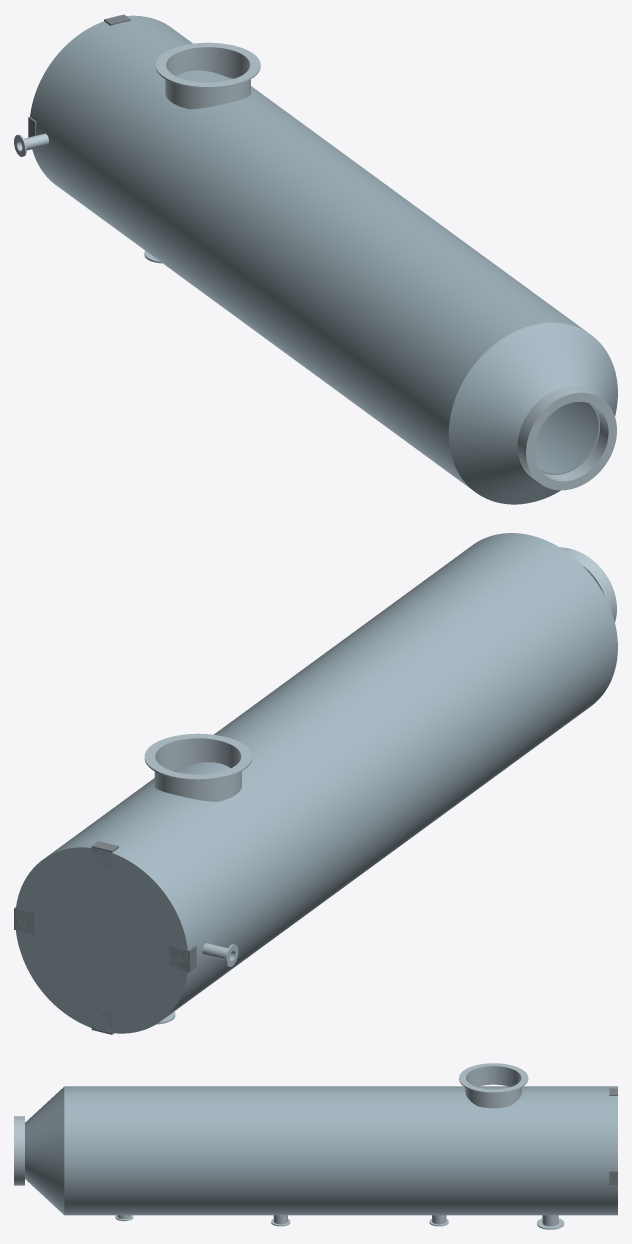
3 views of the same model, one above another, from view 1: azimuth 30°, elevation 25°; view 2: azimuth 150°, elevation 25°; view 3: azimuth 270°, elevation 25° (orthographic). The views are drawn at different scales.
Visible parts, largest first — view 1: 本体_塔身, 本体_塔顶收口, 接口_顶部法兰, 接口_北侧大口接管, 接口_北侧大口法兰, 本体_下封底; view 2: 本体_塔身, 本体_下封底, 接口_北侧大口接管, 接口_北侧大口法兰, 支撑_底部托座, 接口_顶部法兰; view 3: 本体_塔身, 本体_塔顶收口, 接口_北侧大口接管, 本体_下封底, 接口_北侧大口法兰, 接口_顶部法兰.
Boxes of the visible parts, bbox=[...] form: 本体_塔身: bbox=[36, 20, 598, 489]; 本体_塔顶收口: bbox=[448, 322, 617, 504]; 接口_顶部法兰: bbox=[517, 386, 616, 490]; 接口_北侧大口接管: bbox=[165, 48, 250, 109]; 接口_北侧大口法兰: bbox=[155, 42, 260, 88]; 本体_下封底: bbox=[30, 15, 173, 186]; 本体_塔身: bbox=[52, 533, 617, 1013]; 本体_下封底: bbox=[15, 843, 193, 1033]; 接口_北侧大口接管: bbox=[154, 740, 241, 801]; 接口_北侧大口法兰: bbox=[144, 733, 251, 780]; 支撑_底部托座: bbox=[14, 841, 196, 1034]; 接口_顶部法兰: bbox=[560, 547, 616, 621]; 本体_塔身: bbox=[64, 1086, 610, 1215]; 本体_塔顶收口: bbox=[25, 1087, 64, 1214]; 接口_北侧大口接管: bbox=[465, 1067, 521, 1108]; 本体_下封底: bbox=[610, 1086, 617, 1215]; 接口_北侧大口法兰: bbox=[459, 1063, 528, 1093]; 接口_顶部法兰: bbox=[14, 1116, 24, 1185].
Size of the model in its own units: 2.56 by 2.75 by 10.3.
